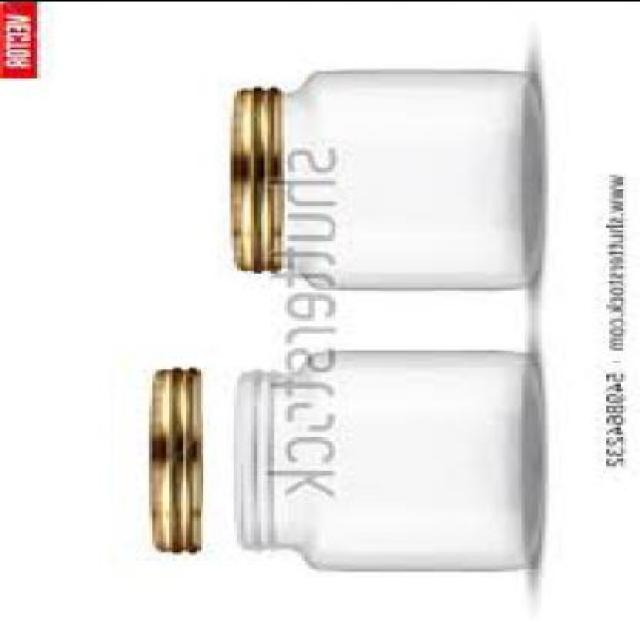GLASS: (245, 351, 535, 571), (283, 71, 529, 291)
METAL: (231, 88, 283, 272), (152, 368, 203, 554)
